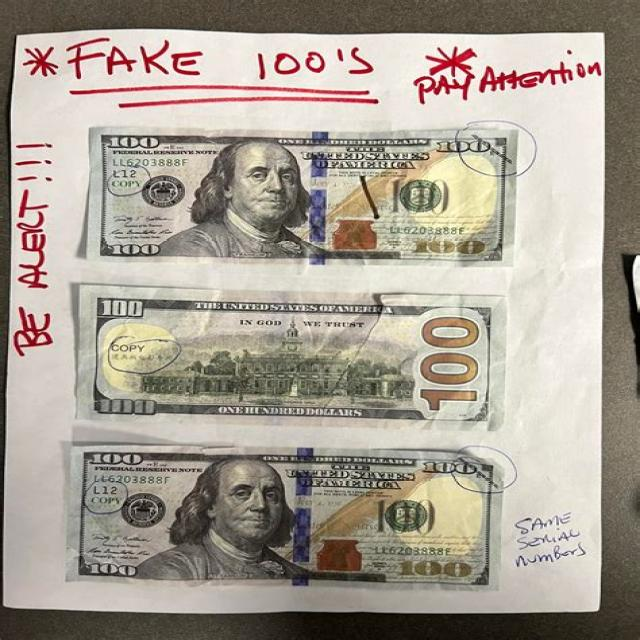Hundred: (74, 284, 510, 431), (69, 445, 501, 593), (85, 124, 520, 268)
